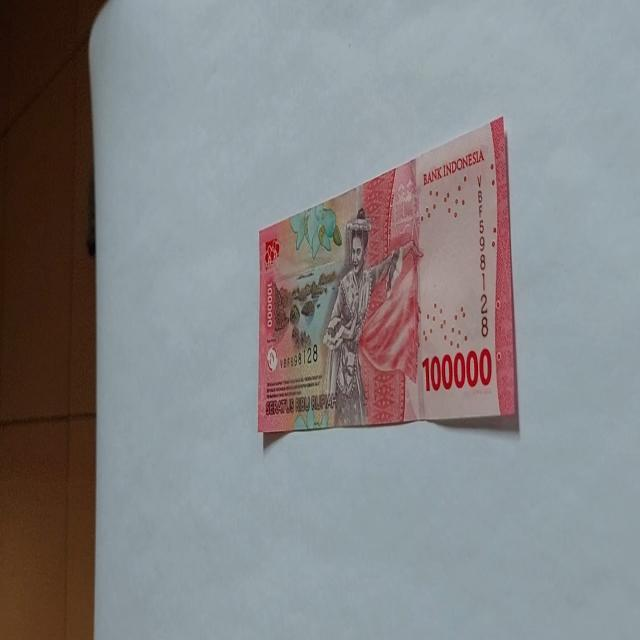seratus ribu rupiah: (256, 114, 518, 437), (321, 206, 419, 427)
